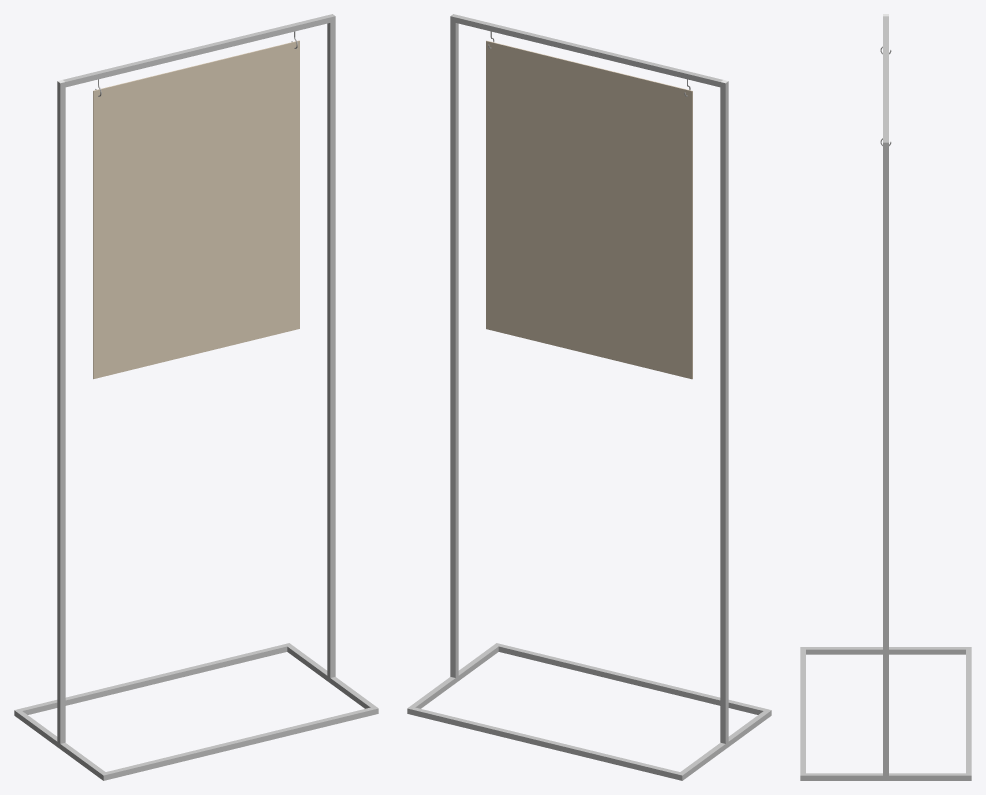
File: photo_stand_frame1.glb
The picture shows the model from 3 angles, left to right: view 1: azimuth 30°, elevation 25°; view 2: azimuth 150°, elevation 25°; view 3: azimuth 270°, elevation 25°; orthographic projection. The views are drawn at different scales.
Visible parts, largest first — view 1: Material2 (×2); view 2: Material2 (×2); view 3: Material2.
Part boxes in pixels (x1,y1,x2,y2): Material2 (×2): [14, 14, 378, 780]; Material2 (×2): [407, 14, 771, 780]; Material2: [800, 16, 971, 780].
Bounding box in the file's own units: 31.5 × 72.83 × 17.72.
